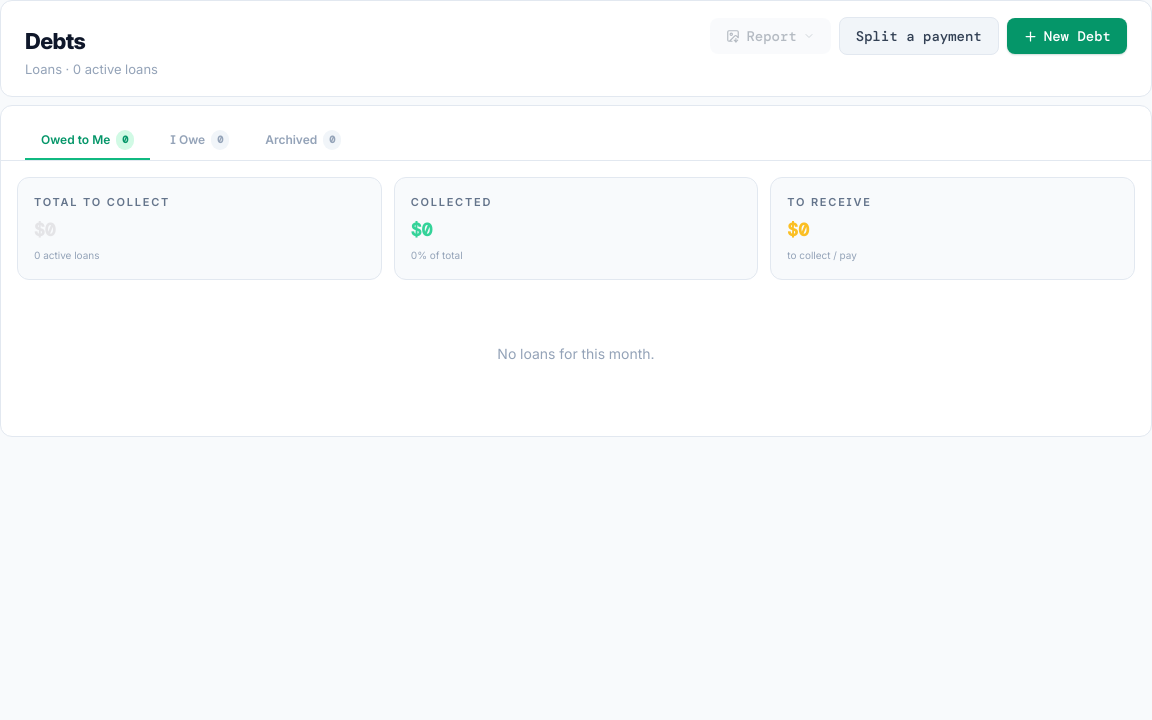
Scenario: DebtKiller › keeps the form and its input when the write fails
The image size is (1152, 720).
Click the button "New Debt": [1067, 36] box [1007,18,1127,54]
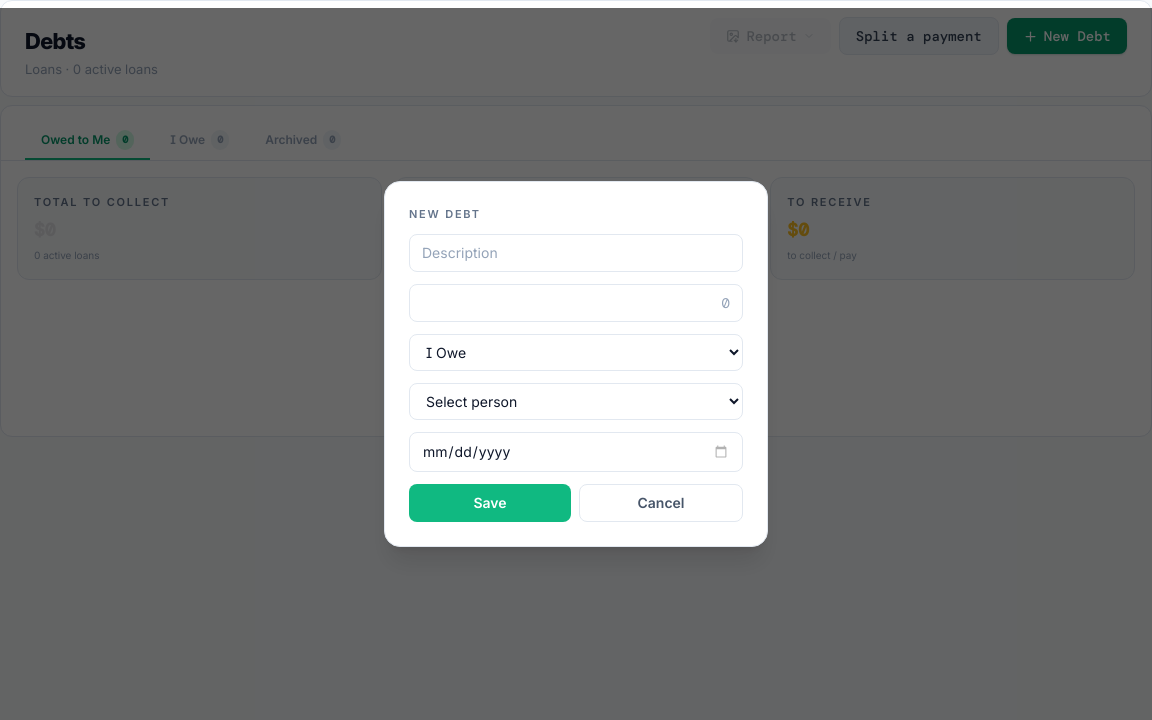
Result: the field with placeholder "Description" is shown
In the field with placeholder "Description": [576, 253] box [409,234,743,272], type "Loan"
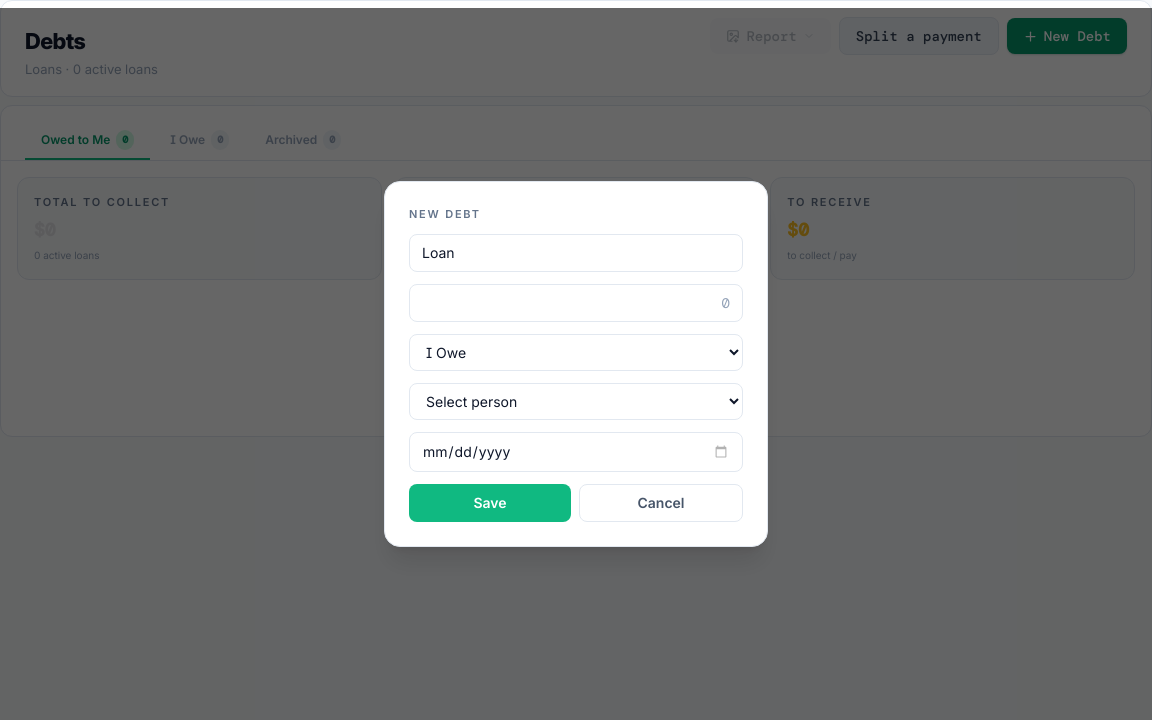
In the field with placeholder "0": [576, 303] box [409,284,743,322], type "500"
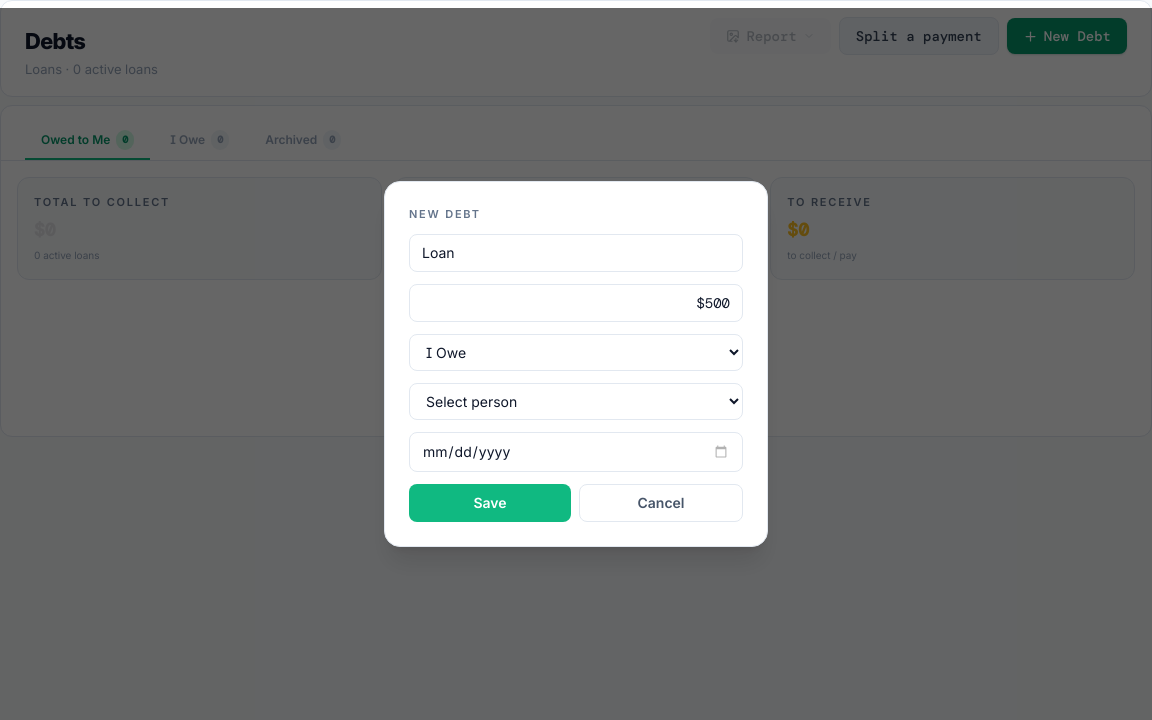
Select "Ana" in the 2nd dropdown: [576, 402] box [409,383,743,420]
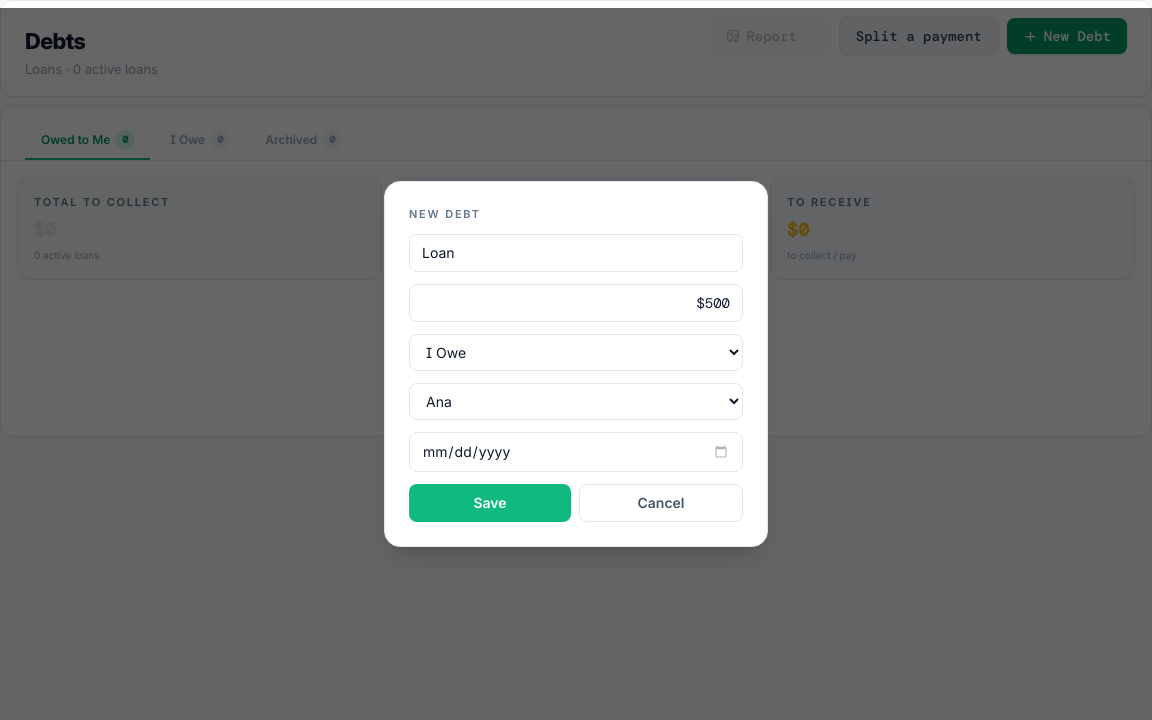
Click the button "Save": [490, 503] box [409,484,571,522]
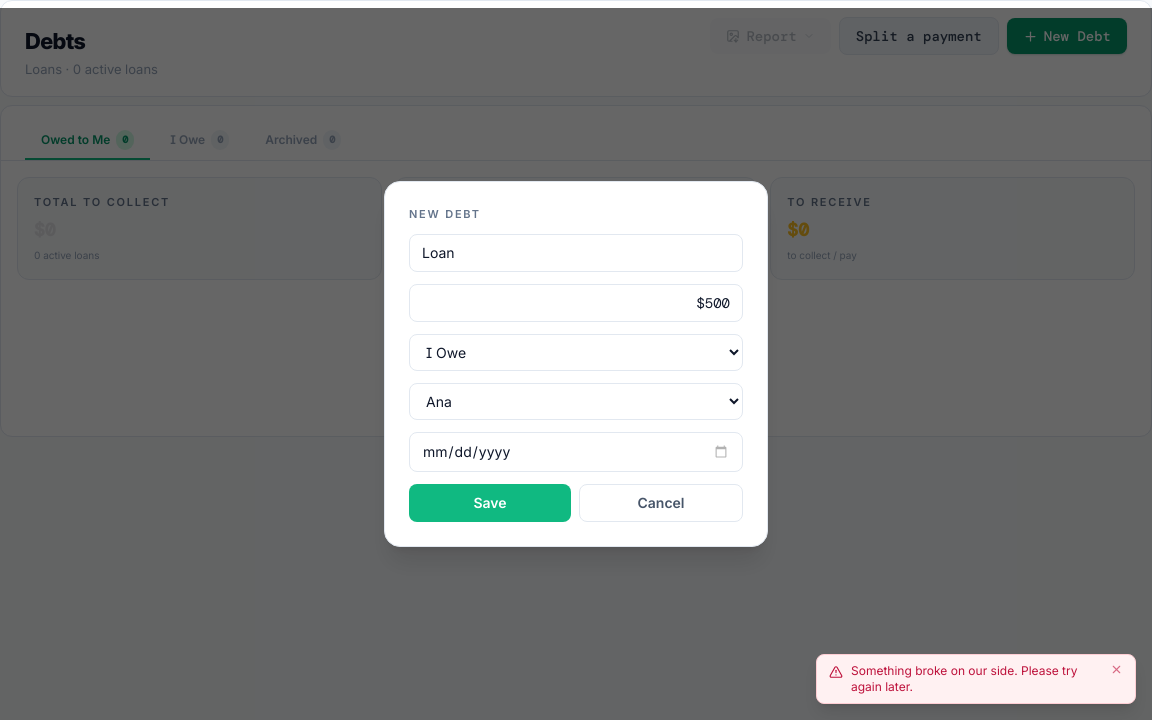
Result: the message "Something broke on our side. Please try again later." is shown at [816,654,1136,704]
